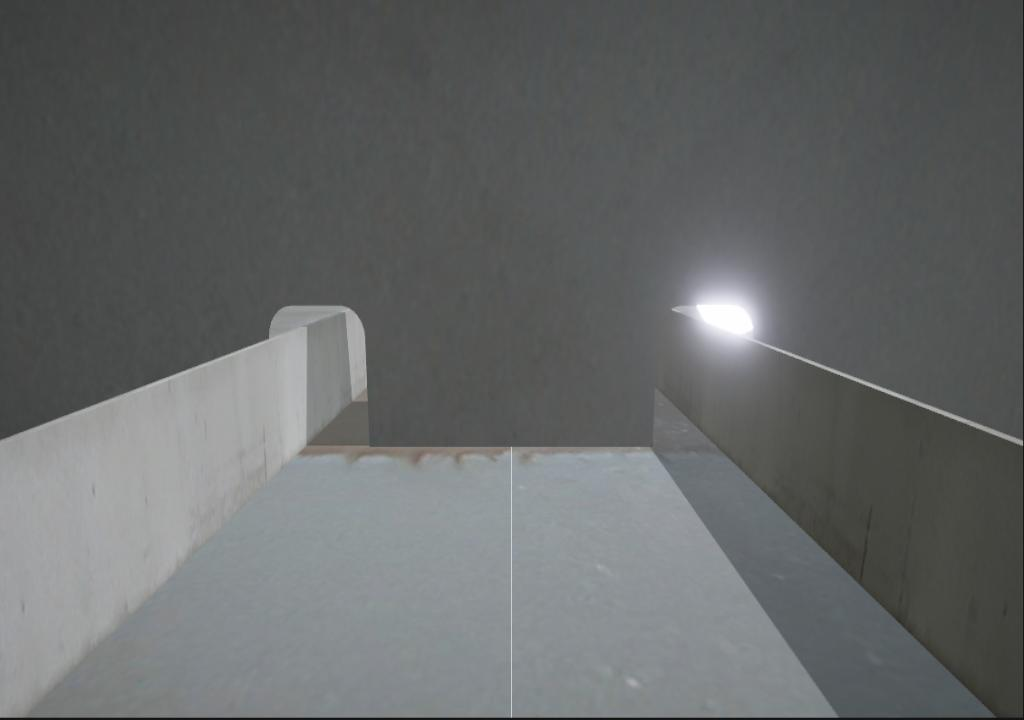fillet_yong_jeop_jang: (366, 433, 652, 452)
